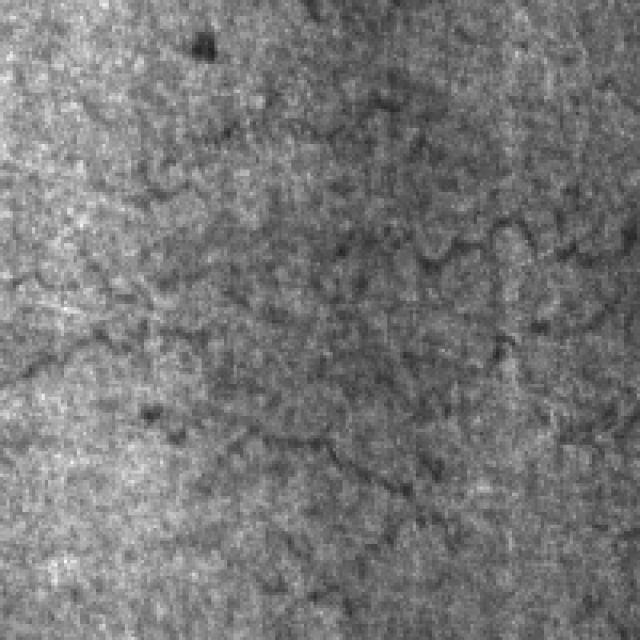crazing: (320, 202, 637, 403), (218, 422, 458, 608), (7, 250, 292, 390)
